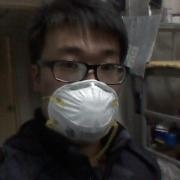Mask: (50, 45, 144, 138)
